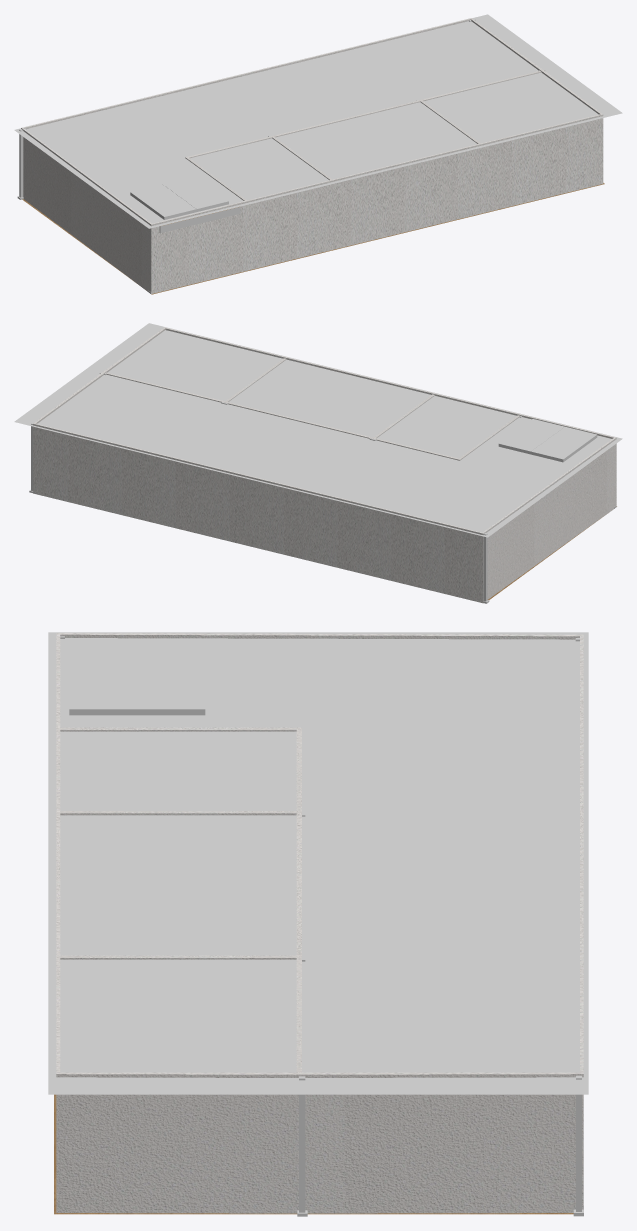
File: rooms.fbx
3 renders of one model, top to bottom at view 1: azimuth 30°, elevation 25°; view 2: azimuth 150°, elevation 25°; view 3: azimuth 270°, elevation 25°, orthographic. The views are drawn at different scales.
Parts seen in each view (by area): view 1: Plane.012, Plane.002, Plane.007, dver.002, dver.003, Plane, Plane.013; view 2: Plane.012, Plane.002, Plane.007, dver.002, dver.003, Plane.010; view 3: Plane.012, Plane.002, Plane.007, dver.003, dver.002, Plane.010, Plane.
Part boxes in pixels (left/top/right/bottom): Plane.012: left=14, top=14, right=622, bottom=228; Plane.002: left=21, top=18, right=603, bottom=293; Plane.007: left=185, top=71, right=541, bottom=200; dver.002: left=130, top=184, right=196, bottom=219; dver.003: left=163, top=176, right=228, bottom=211; Plane: left=22, top=183, right=604, bottom=294; Plane.013: left=159, top=206, right=240, bottom=233; Plane.012: left=14, top=323, right=622, bottom=537; Plane.002: left=33, top=327, right=616, bottom=603; Plane.007: left=105, top=358, right=519, bottom=460; dver.002: left=531, top=426, right=597, bottom=462; dver.003: left=498, top=419, right=564, bottom=454; Plane.010: left=29, top=372, right=616, bottom=603; Plane.012: left=48, top=632, right=588, bottom=1094; Plane.002: left=56, top=633, right=583, bottom=1213; Plane.007: left=60, top=727, right=301, bottom=1072; dver.003: left=69, top=677, right=205, bottom=715; dver.002: left=69, top=646, right=205, bottom=677; Plane.010: left=60, top=634, right=583, bottom=1216; Plane: left=54, top=1094, right=573, bottom=1214.
Size of the model in its own units: 2825 by 405 by 1395.
